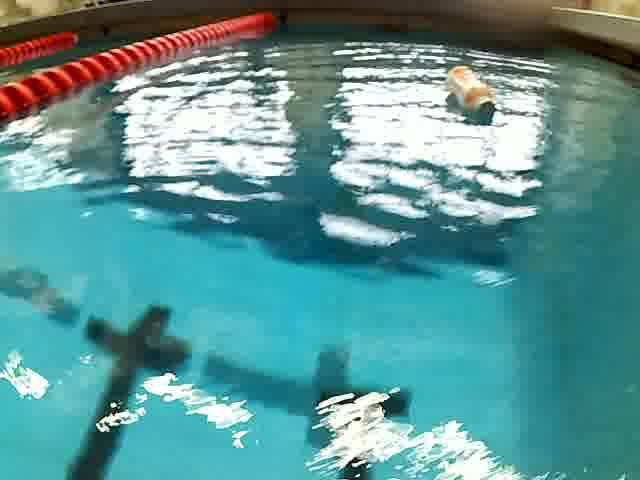Bottle: (437, 57, 518, 128)
